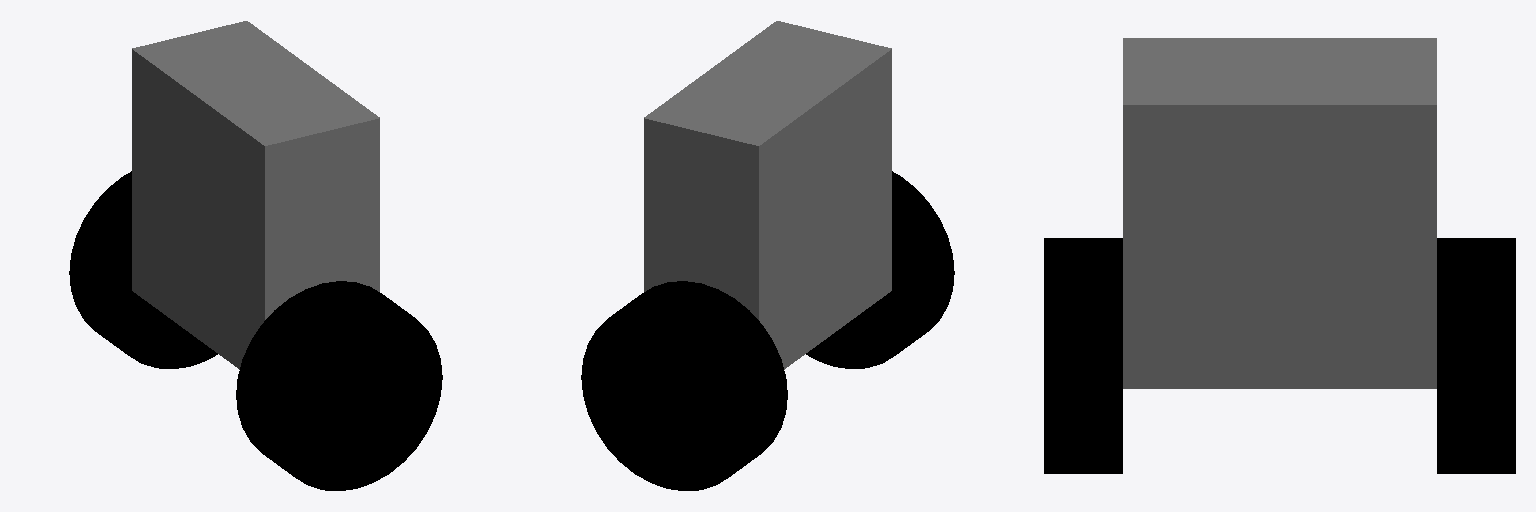
URDF robot description (self_balancing_robot):
<?xml version="1.0"?>
<robot name="self_balancing_robot">

  <!-- Chassis (Body) -->
  <link name="chassis">
    <inertial>
      <origin xyz="0 0 0.1" rpy="0 0 0"/> <!-- Center of mass in the middle of the chassis -->
      <mass value="1.0"/>
      <inertia ixx="0.0" ixy="0" ixz="0" iyy="0.0" iyz="0" izz="0.0"/>
    </inertial>
    <visual>
      <geometry>
        <box size="0.10 0.20 0.20"/> <!-- Length=10 cm, Width=20 cm, Height=20 cm -->
      </geometry>
      <material name="gray">
        <color rgba="0.5 0.5 0.5 1.0"/>
      </material>
    </visual>
    <collision>
      <geometry>
        <box size="0.10 0.20 0.20"/>
      </geometry>
    </collision>
  </link>

  <!-- Left Wheel -->
  <link name="left_wheel">
    <inertial>
      <origin xyz="0 0 0" rpy="1.5708 0 0"/>
      <mass value="0.5"/>
      <inertia ixx="0.0" ixy="0" ixz="0" iyy="0.0" iyz="0" izz="0.0"/>
    </inertial>
    <visual>
      <origin xyz="0 0 0" rpy="1.5708 0 0"/>
      <geometry>
        <cylinder radius="0.075" length="0.05"/> <!-- Diameter=15 cm (radius=0.075), width=5 cm -->
      </geometry>
      <material name="black">
        <color rgba="0.0 0.0 0.0 1.0"/>
      </material>
    </visual>
    <collision>
      <origin xyz="0 0 0" rpy="1.5708 0 0"/>
      <geometry>
        <cylinder radius="0.075" length="0.05"/>
      </geometry>
    </collision>
  </link>

  <!-- Right Wheel -->
  <link name="right_wheel">
    <inertial>
      <origin xyz="0 0 0" rpy="1.5708 0 0"/>
      <mass value="0.5"/>
      <inertia ixx="0.0" ixy="0" ixz="0" iyy="0.0" iyz="0" izz="0.0"/>
    </inertial>
    <visual>
      <origin xyz="0 0 0" rpy="1.5708 0 0"/>
      <geometry>
        <cylinder radius="0.075" length="0.05"/> <!-- Diameter=15 cm (radius=0.075), width=5 cm -->
      </geometry>
      <material name="black">
        <color rgba="0.0 0.0 0.0 1.0"/>
      </material>
    </visual>
    <collision>
      <origin xyz="0 0 0" rpy="1.5708 0 0"/>
      <geometry>
        <cylinder radius="0.075" length="0.05"/>
      </geometry>
    </collision>
  </link>

  <!-- Joint for Left Wheel -->
  <joint name="left_wheel_joint" type="continuous">
    <parent link="chassis"/>
    <child link="left_wheel"/>
    <origin xyz="0 -0.125 -0.10" rpy="0 0 0"/> <!-- Left wheel is 10 cm to the left (Y=-0.10) and 5 cm above the ground (Z=0.05) -->
    <axis xyz="0 1 0"/> <!-- Rotation along the Y-axis -->
  </joint>

  <!-- Joint for Right Wheel -->
  <joint name="right_wheel_joint" type="continuous">
    <parent link="chassis"/>
    <child link="right_wheel"/>
    <origin xyz="0 0.125 -0.10" rpy="0 0 0"/> <!-- Right wheel is 10 cm to the right (Y=0.10) and 5 cm above the ground (Z=0.05) -->
    <axis xyz="0 1 0"/> <!-- Rotation along the Y-axis -->
  </joint>

  <!-- Define materials -->
  <material name="gray">
    <color rgba="0.5 0.5 0.5 1.0"/>
  </material>

  <material name="black">
    <color rgba="0.0 0.0 0.0 1.0"/>
  </material>

</robot>

--- What the picture shows (computed from the rendered views, not written in the file) ---
3 views of the same robot in one strip: view 1: azimuth 30°, elevation 25°; view 2: azimuth 150°, elevation 25°; view 3: azimuth 270°, elevation 25° (orthographic).
Model self_balancing_robot with 3 links and 2 joints (2 continuous), rooted at chassis, posed all joints at 0.
Links seen in each view (by area): view 1: chassis, left_wheel, right_wheel; view 2: chassis, right_wheel, left_wheel; view 3: chassis, left_wheel, right_wheel.
Boxes of the visible links, x1,y1,x2,y2 form: chassis: [132, 21, 379, 369]; left_wheel: [236, 281, 442, 490]; right_wheel: [69, 171, 217, 368]; chassis: [644, 21, 891, 369]; right_wheel: [581, 281, 787, 490]; left_wheel: [806, 171, 954, 368]; chassis: [1123, 38, 1436, 388]; left_wheel: [1044, 238, 1122, 473]; right_wheel: [1437, 238, 1515, 473].
Bounding box of the posed robot: 0.15 × 0.3 × 0.275 m (x, y, z).
Geometry: primitives only (box / cylinder / sphere), no mesh files.